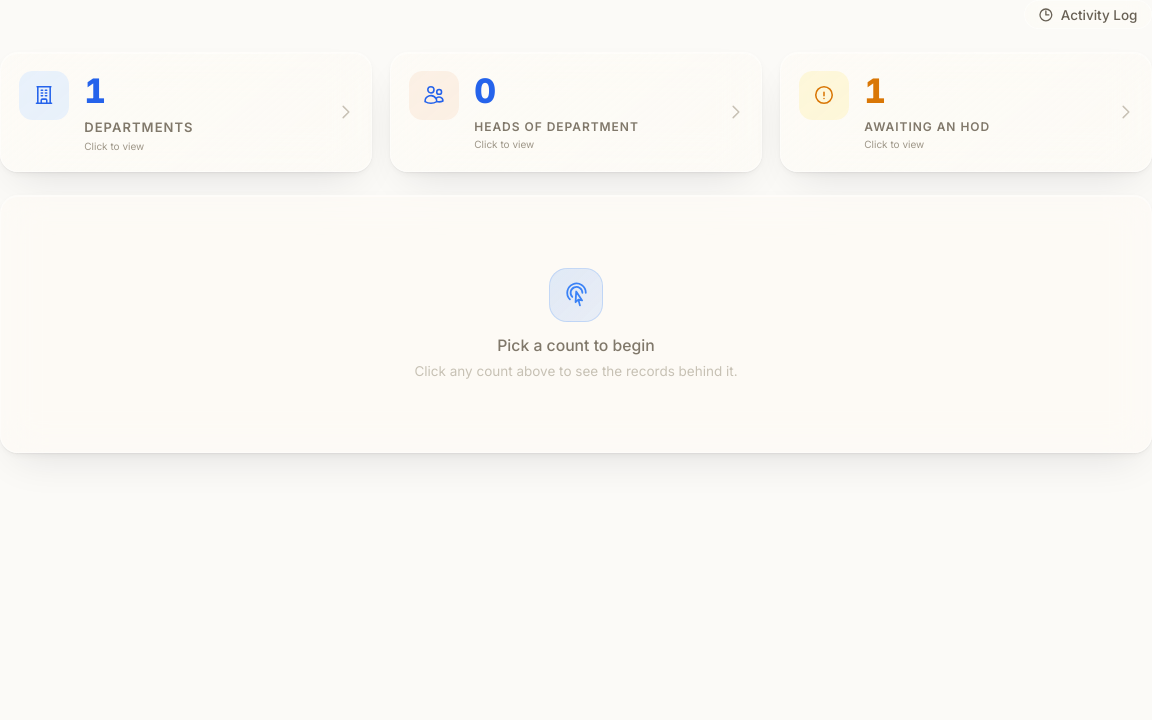
Scenario: AdminPanel â€” delete department › does not delete when the confirmation is dismissed
Click the button "1 Departments Click to view" at [44, 95], box [0,52,372,172]
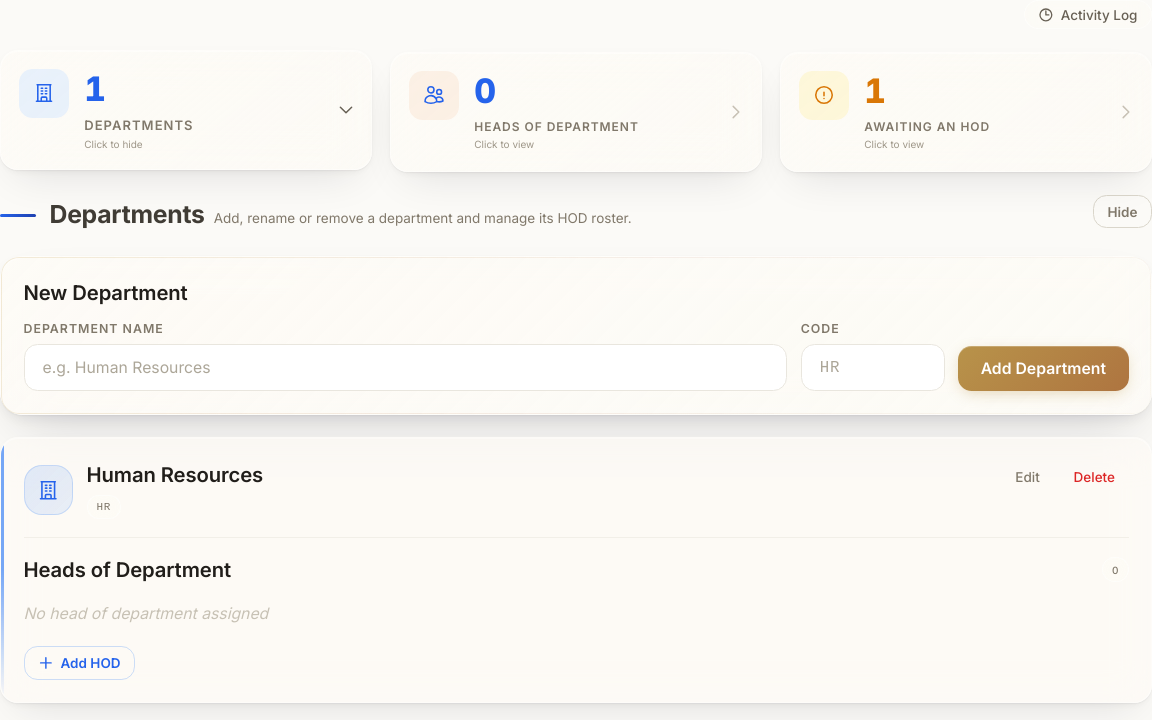
Click the button with aria-label "delete human resources" at [1094, 477], box [1060,461,1128,492]
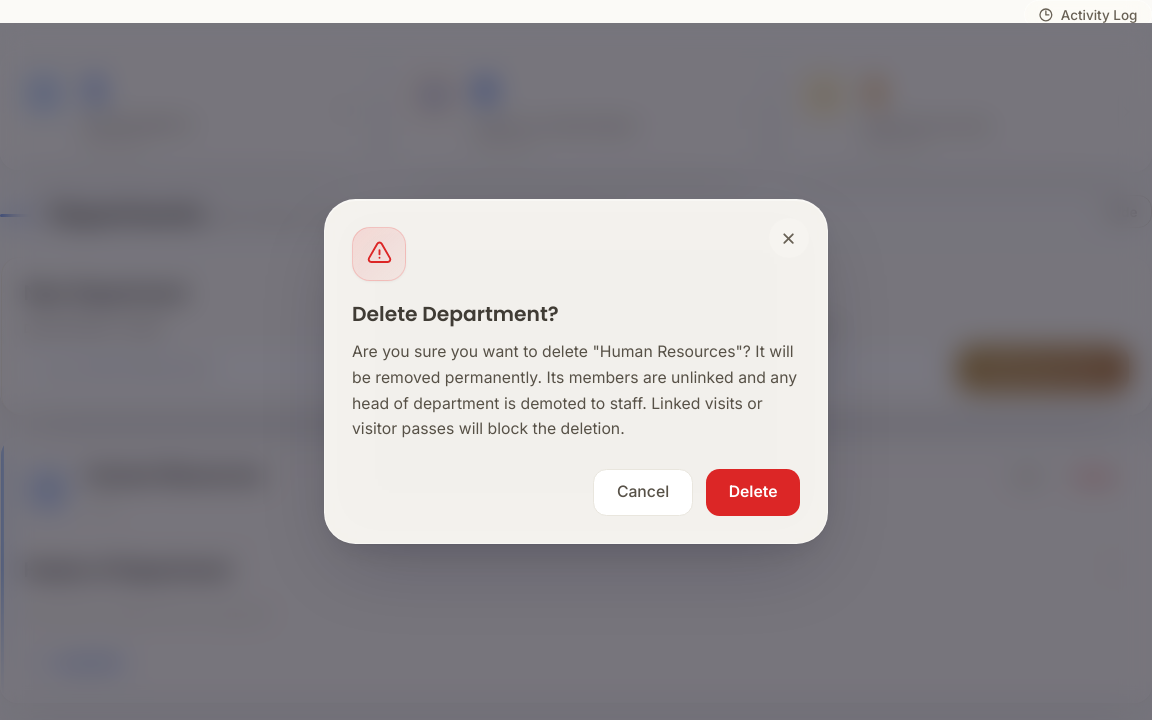
Click the button "Cancel" at [643, 492], box [593,469,693,516]
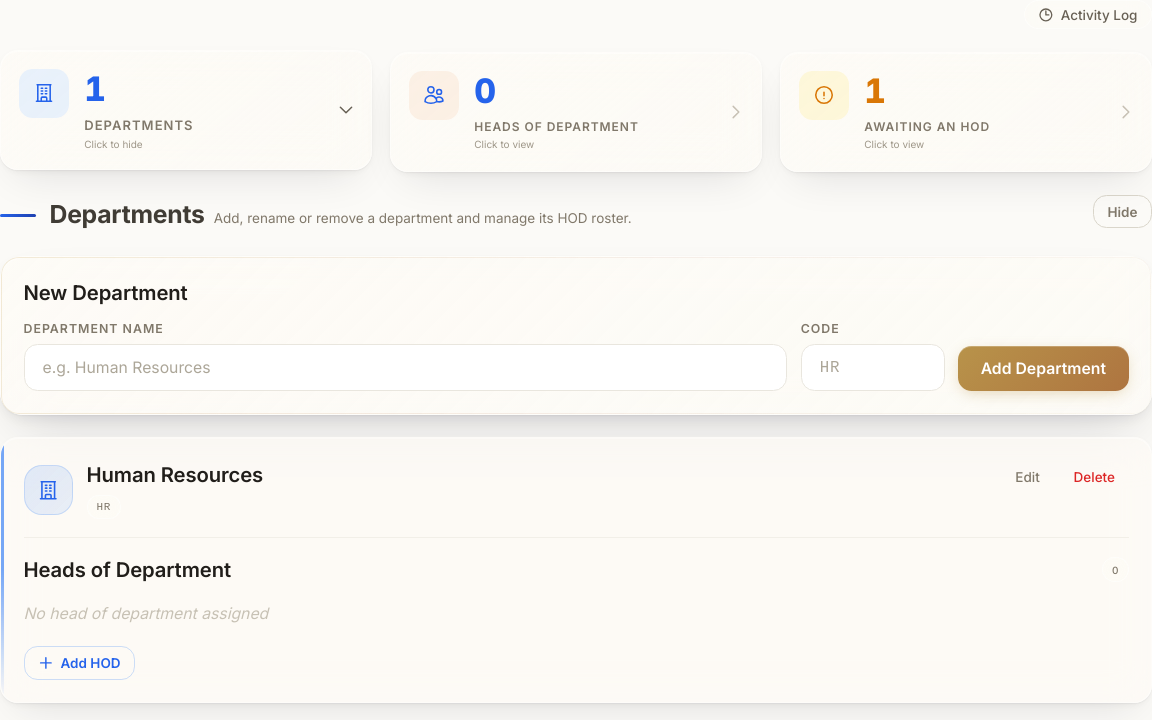
Now the dialog is gone
